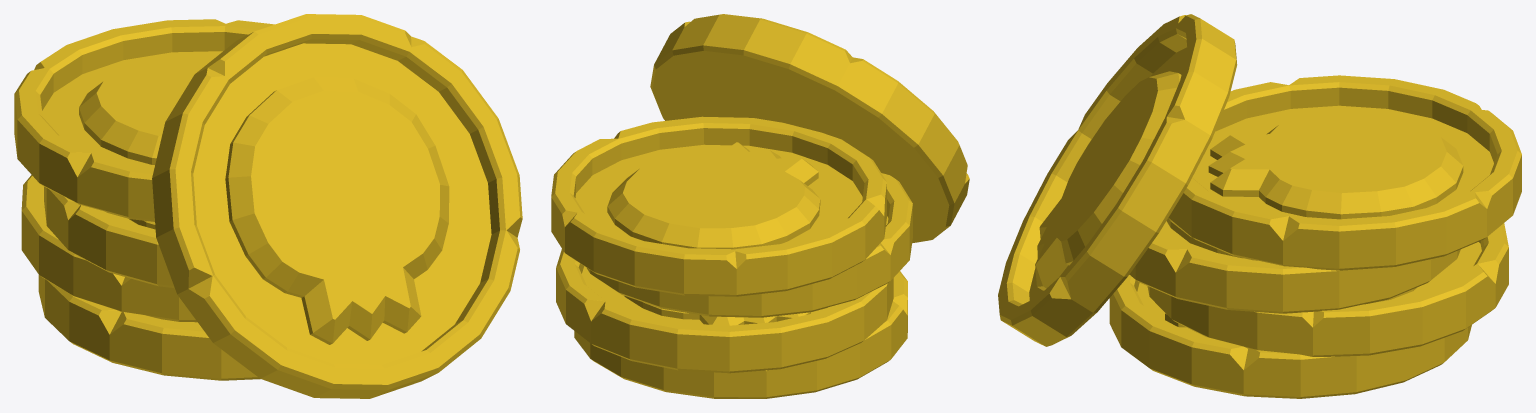
File: CoinPile.fbx
3 views of the same model, side by side, from view 1: azimuth 30°, elevation 25°; view 2: azimuth 150°, elevation 25°; view 3: azimuth 270°, elevation 25° (orthographic). The views are drawn at different scales.
Visible parts, largest first — view 1: Cylinder.004, Cylinder.003, Cylinder, Cylinder.001, Cylinder.002; view 2: Cylinder.003, Cylinder.004, Cylinder.001, Cylinder, Cylinder.002; view 3: Cylinder.003, Cylinder.004, Cylinder.001, Cylinder, Cylinder.002.
Boxes of the visible parts, x1,y1,x2,y2 form: Cylinder.004: (152, 14, 522, 398); Cylinder.003: (14, 19, 274, 221); Cylinder: (38, 275, 260, 380); Cylinder.001: (21, 175, 197, 322); Cylinder.002: (44, 186, 174, 288); Cylinder.003: (551, 116, 886, 296); Cylinder.004: (650, 14, 969, 243); Cylinder.001: (556, 249, 893, 373); Cylinder: (574, 271, 907, 398); Cylinder.002: (587, 173, 912, 317); Cylinder.003: (1168, 75, 1521, 270); Cylinder.004: (998, 14, 1237, 346); Cylinder.001: (1147, 223, 1508, 356); Cylinder: (1109, 275, 1471, 398); Cylinder.002: (1129, 218, 1460, 313).
Size of the model in its own units: 208 by 180 by 287.
